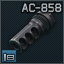SilencerCo AC-858 ASR .338 LM Muzzle brake: (0, 0, 64, 64)
